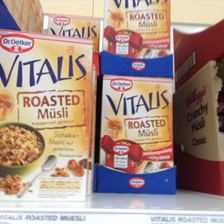cereal: (1, 29, 96, 202), (100, 73, 175, 176), (103, 1, 173, 58)
